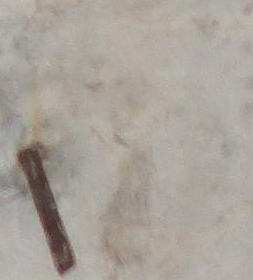Exposed reinforcement: (16, 148, 77, 278)
